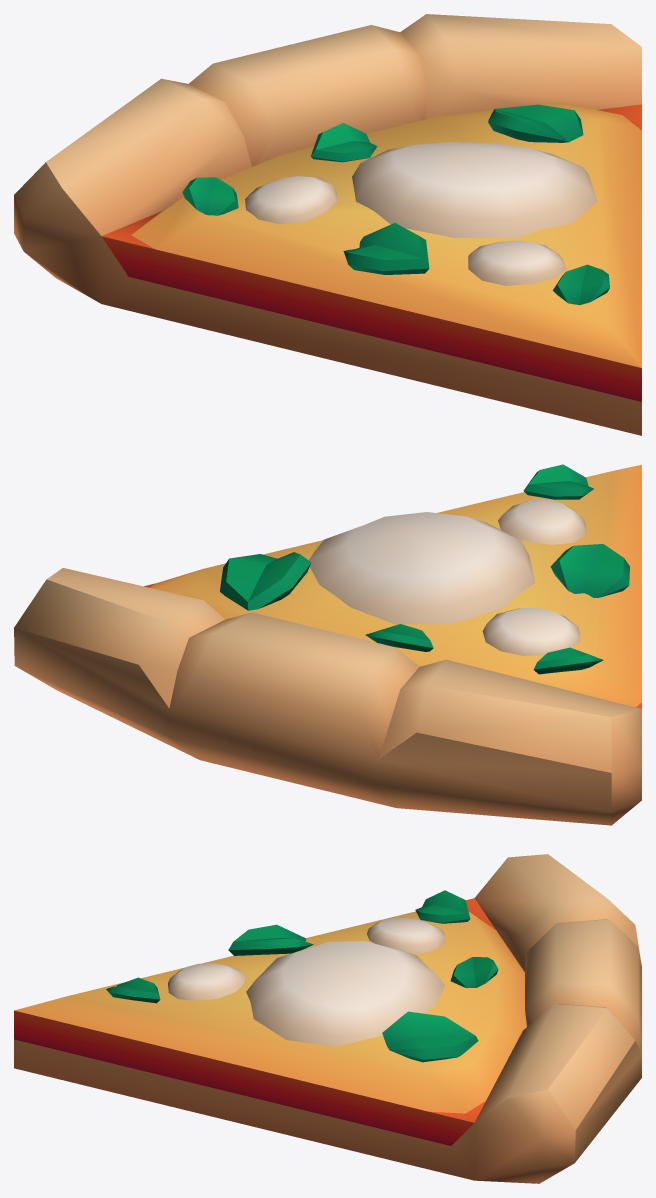
Rendered from food_pizza_cheese_slice.obj.
3 views of the same model, one above another, from view 1: azimuth 30°, elevation 25°; view 2: azimuth 150°, elevation 25°; view 3: azimuth 270°, elevation 25° (orthographic). The views are drawn at different scales.
Parts seen in each view (by area): view 1: food_pizza_cheese_slice_Cylinder.203; view 2: food_pizza_cheese_slice_Cylinder.203; view 3: food_pizza_cheese_slice_Cylinder.203.
Boxes of the visible parts, x1=… form: food_pizza_cheese_slice_Cylinder.203: x1=14, y1=14, x2=641, y2=435; food_pizza_cheese_slice_Cylinder.203: x1=14, y1=464, x2=641, y2=825; food_pizza_cheese_slice_Cylinder.203: x1=14, y1=854, x2=641, y2=1183.
Bounding box in the file's own units: 0.9542 × 0.2 × 0.9848.
Materials: 1 (1 with a texture image).
